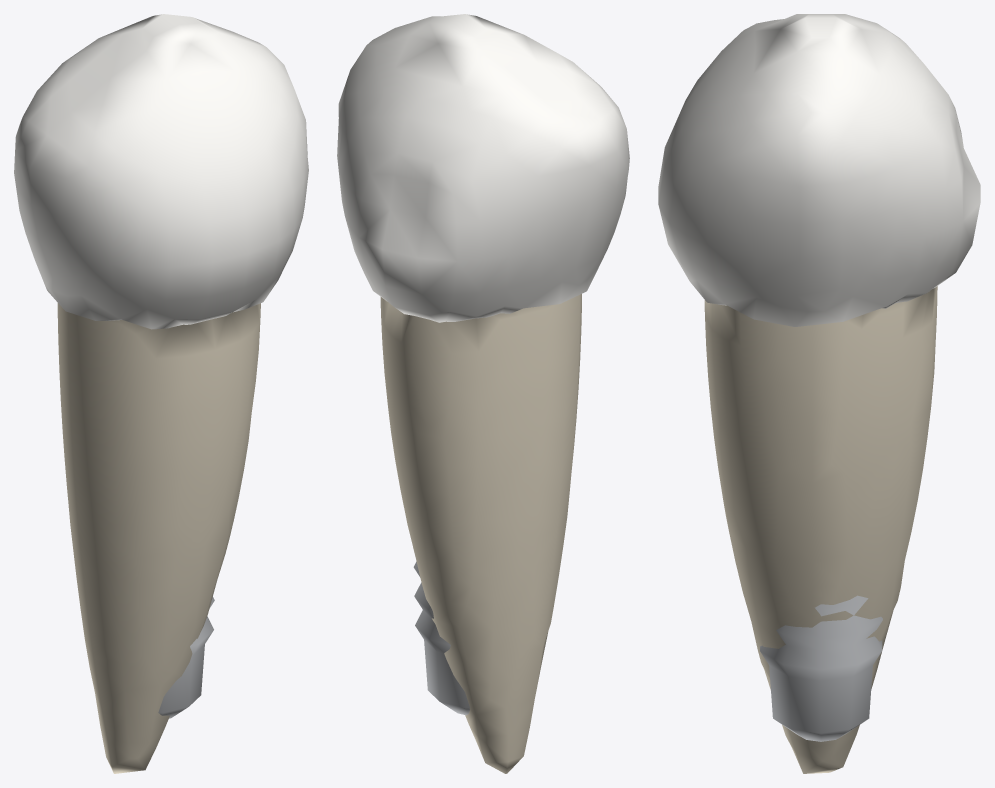
3 views of the same model, side by side, from view 1: azimuth 30°, elevation 25°; view 2: azimuth 150°, elevation 25°; view 3: azimuth 270°, elevation 25° (orthographic). The views are drawn at different scales.
Parts seen in each view (by area): view 1: crown, root, implant; view 2: crown, root, implant; view 3: crown, root, implant.
Part boxes in pixels (x1,y1,x2,y2): crown: (14, 14, 308, 329); root: (57, 303, 260, 773); implant: (158, 596, 214, 718); crown: (337, 14, 629, 322); root: (380, 294, 581, 773); implant: (413, 561, 469, 715); crown: (658, 14, 980, 326); root: (704, 286, 937, 773); implant: (760, 595, 882, 741).
Size of the model in its own units: 7.63 by 20.29 by 7.58.
